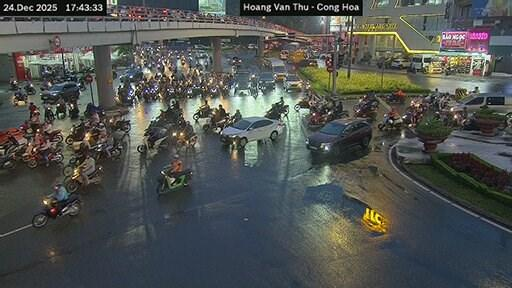motorbike: (32, 193, 80, 226), (64, 165, 102, 192), (156, 169, 191, 193), (137, 127, 166, 152), (64, 121, 89, 144), (202, 113, 230, 130), (96, 139, 121, 158), (377, 112, 402, 129), (352, 94, 377, 111), (172, 131, 195, 148), (22, 148, 42, 166), (265, 103, 288, 118), (354, 103, 377, 118), (307, 112, 329, 126), (108, 117, 130, 130), (44, 129, 63, 143), (83, 103, 103, 116), (0, 152, 15, 169), (400, 111, 418, 125), (192, 108, 211, 120), (48, 148, 63, 162), (294, 98, 310, 111), (13, 90, 26, 104), (67, 103, 79, 117), (387, 93, 403, 103), (54, 104, 66, 117), (44, 106, 54, 121), (25, 81, 34, 94), (39, 80, 51, 89), (9, 80, 18, 90), (210, 85, 217, 95), (77, 82, 84, 90), (78, 77, 85, 82)
